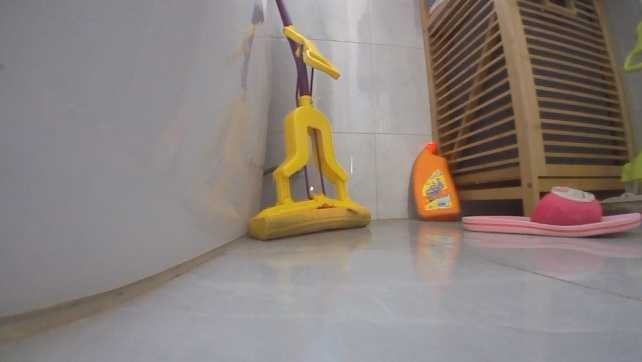slipper: (458, 183, 640, 238)
toilet: (0, 0, 279, 320)
